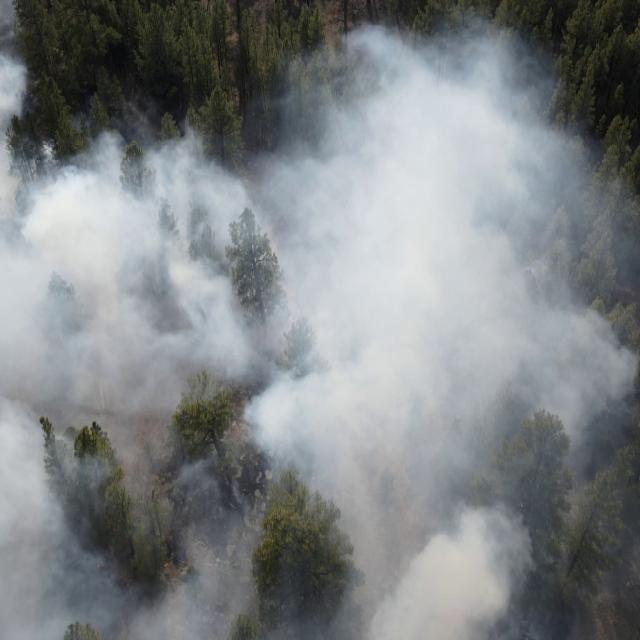fire: (92, 559, 106, 571), (162, 560, 172, 570)
smoke: (0, 127, 640, 640), (282, 16, 560, 128), (0, 0, 28, 130)
